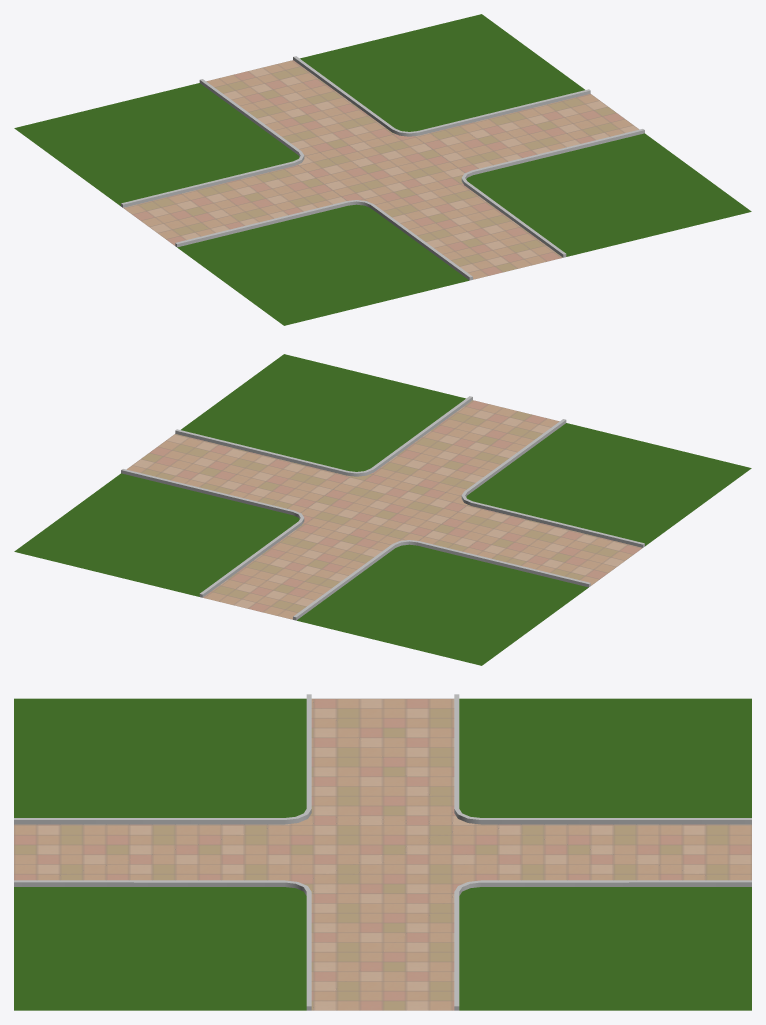
The model's file is Park_Sidewalk_06.fbx.
3 views of the same model, one above another, from view 1: azimuth 30°, elevation 25°; view 2: azimuth 150°, elevation 25°; view 3: azimuth 270°, elevation 25° (orthographic). The views are drawn at different scales.
Parts seen in each view (by area): view 1: Park_Sidewalk_06; view 2: Park_Sidewalk_06; view 3: Park_Sidewalk_06.
Boxes of the visible parts, x1,y1,x2,y2 form: Park_Sidewalk_06: (14,14,751,325); Park_Sidewalk_06: (14,354,751,665); Park_Sidewalk_06: (14,694,751,1010).
Bounding box in the file's own units: 3000 × 3000 × 20.
